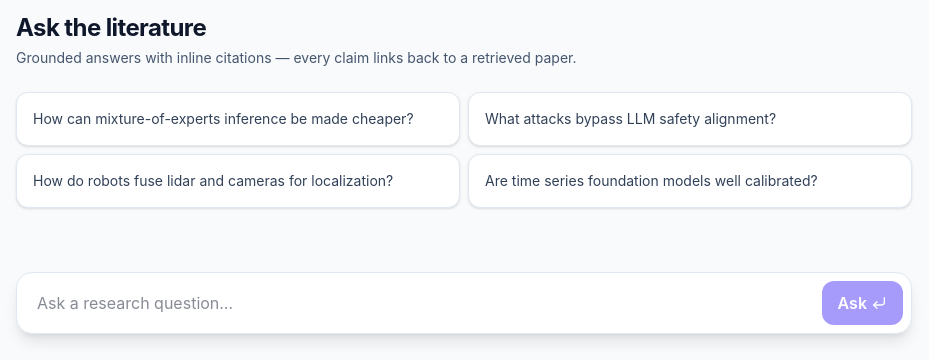
Test: AskPage › shows server errors inline
Click the button "What attacks bypass LLM safety alignment?" at (690, 119), box [468,92,912,146]
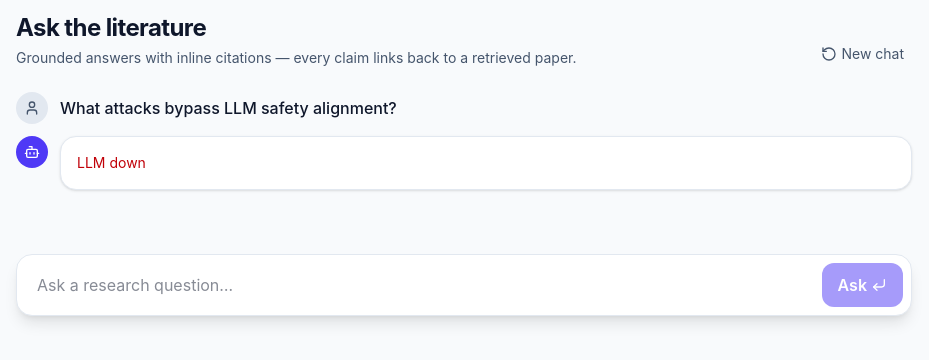
Now the message reads "LLM down", box [77,154,146,171]
